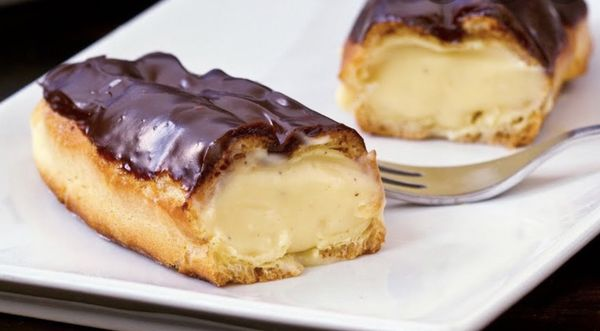curry: (3, 7, 600, 331)
sushi: (31, 51, 389, 287), (334, 1, 591, 148)
